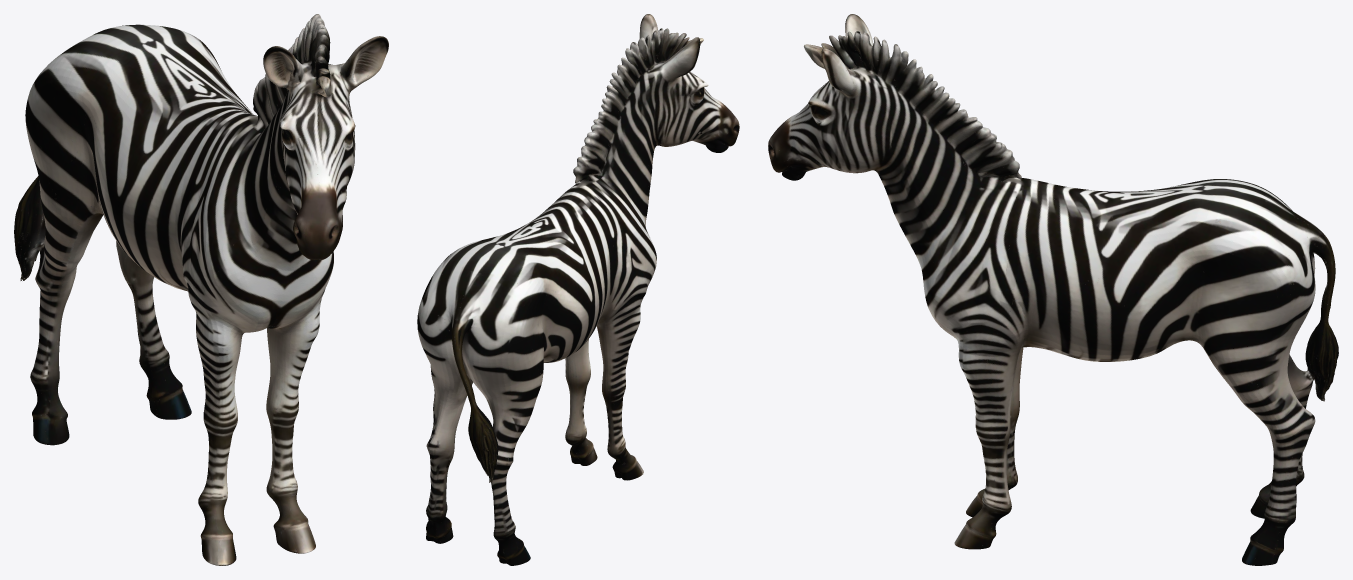
The model's file is Zebra.fbx.
3 views of the same model, side by side, from view 1: azimuth 30°, elevation 25°; view 2: azimuth 150°, elevation 25°; view 3: azimuth 270°, elevation 25° (orthographic). The views are drawn at different scales.
Parts seen in each view (by area): view 1: world; view 2: world; view 3: world.
Part boxes in pixels (left/top/right/bottom): world: left=14, top=14, right=388, bottom=565; world: left=417, top=14, right=739, bottom=565; world: left=768, top=14, right=1338, bottom=565.
Bounding box in the file's own units: 58.48 × 191 × 200.
Materials: 1 (1 with a texture image).
